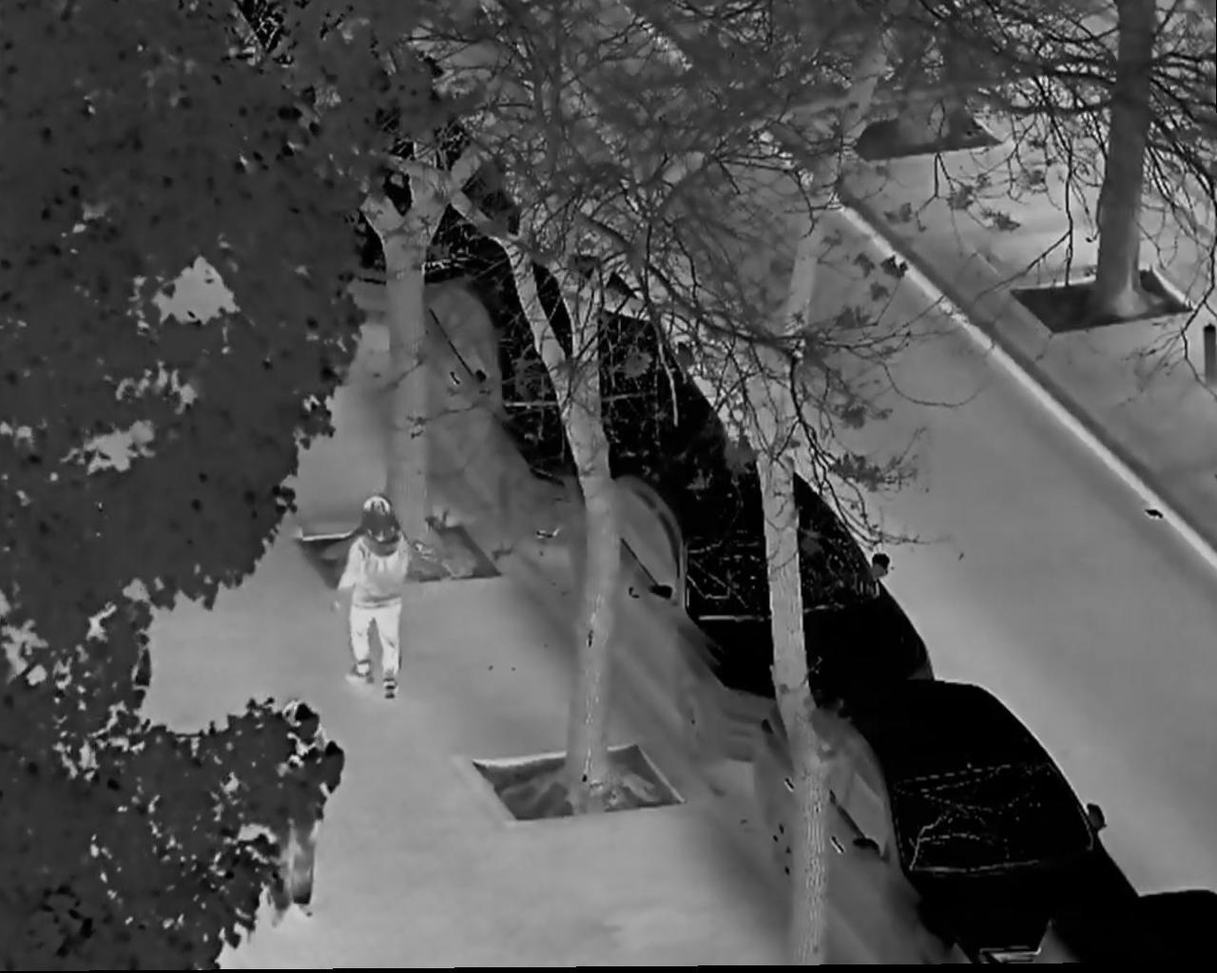person: (338, 499, 414, 695), (267, 703, 330, 924)
